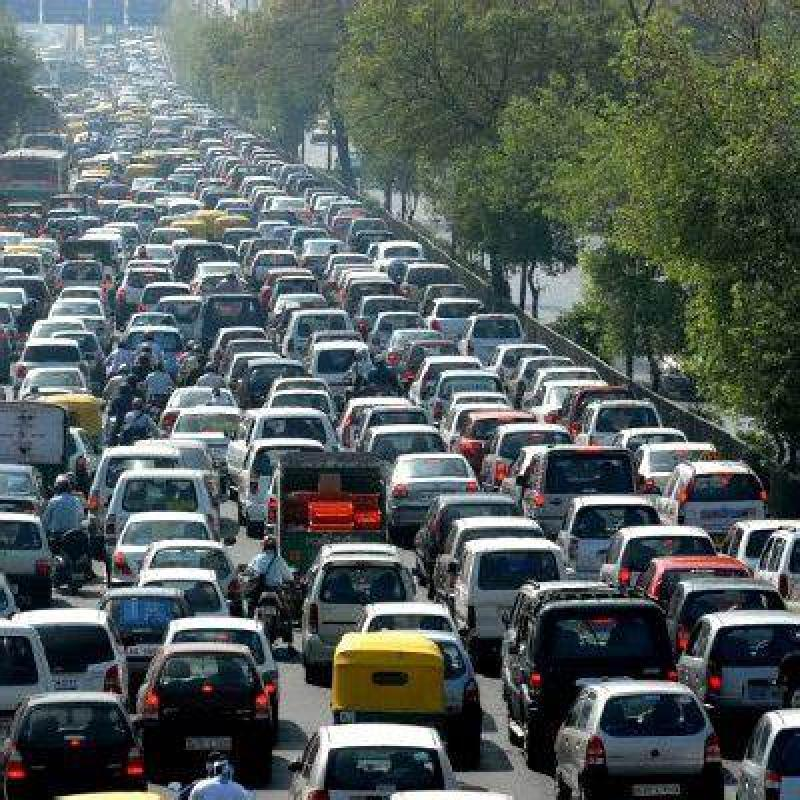auto: (336, 636, 447, 720), (49, 391, 132, 454)
car: (494, 594, 692, 704), (306, 714, 478, 800), (153, 656, 286, 766), (529, 436, 664, 530), (572, 687, 690, 780), (462, 543, 566, 643), (315, 548, 408, 650), (385, 451, 486, 534), (665, 461, 766, 540), (279, 318, 373, 382), (465, 302, 536, 370), (235, 440, 315, 496), (604, 531, 690, 579), (399, 261, 453, 307)
